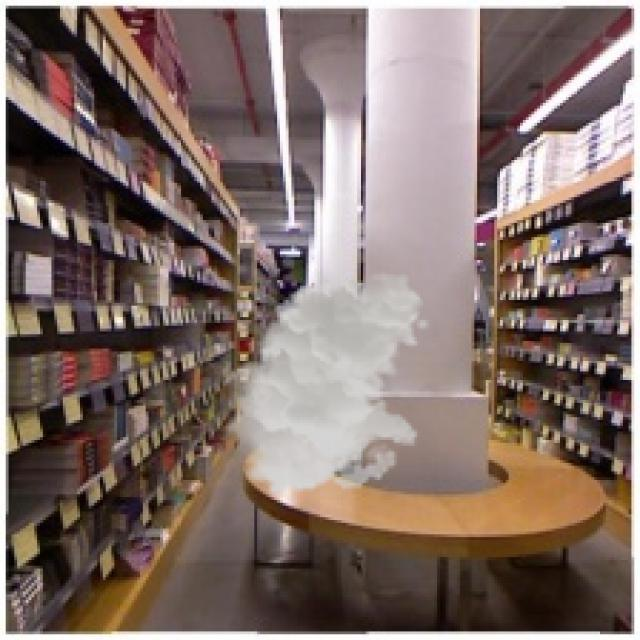Smoke: (217, 272, 432, 497)
